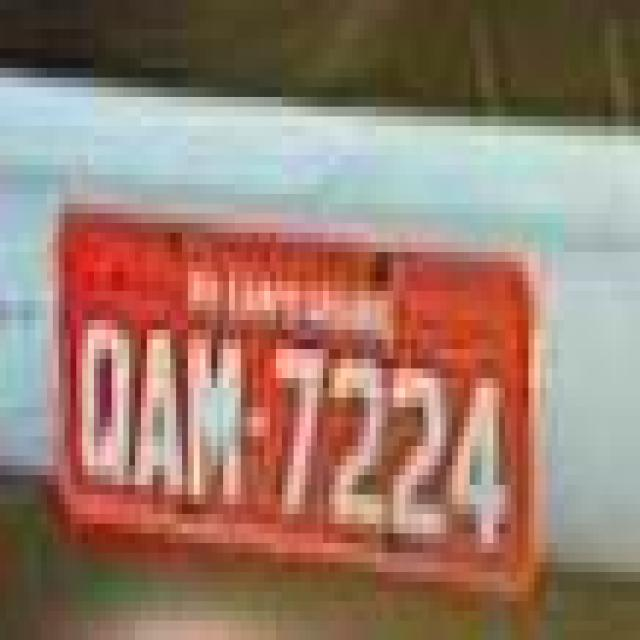4: (452, 370, 502, 547)
7: (268, 329, 325, 524)
A: (132, 307, 182, 520)
M: (187, 317, 245, 517)
Q: (72, 308, 131, 494)
